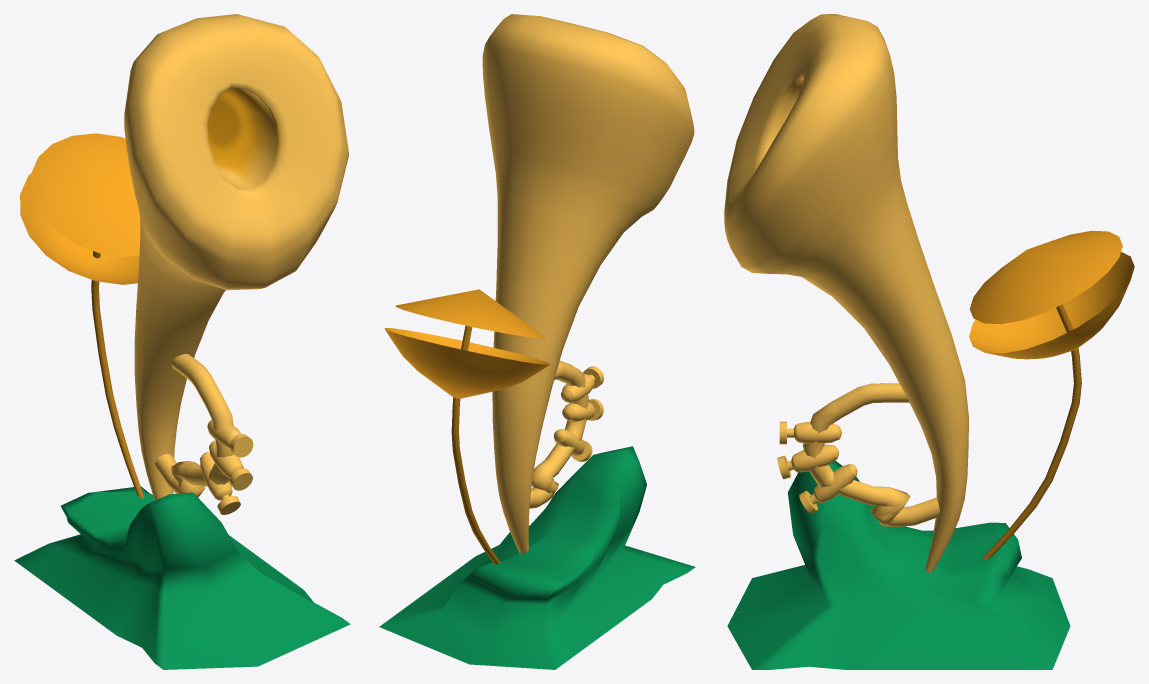
The model's file is cespugliotromba.fbx.
3 renders of one model, left to right at view 1: azimuth 30°, elevation 25°; view 2: azimuth 150°, elevation 25°; view 3: azimuth 270°, elevation 25°, orthographic. The views are drawn at different scales.
Visible parts, largest first — view 1: cespuglio_tromba; view 2: cespuglio_tromba; view 3: cespuglio_tromba.
Part boxes in pixels (x1,y1,x2,y2): cespuglio_tromba: (14, 14, 350, 669); cespuglio_tromba: (379, 14, 695, 669); cespuglio_tromba: (724, 14, 1134, 669).
Bounding box in the file's own units: 14.28 × 39.14 × 24.35.
